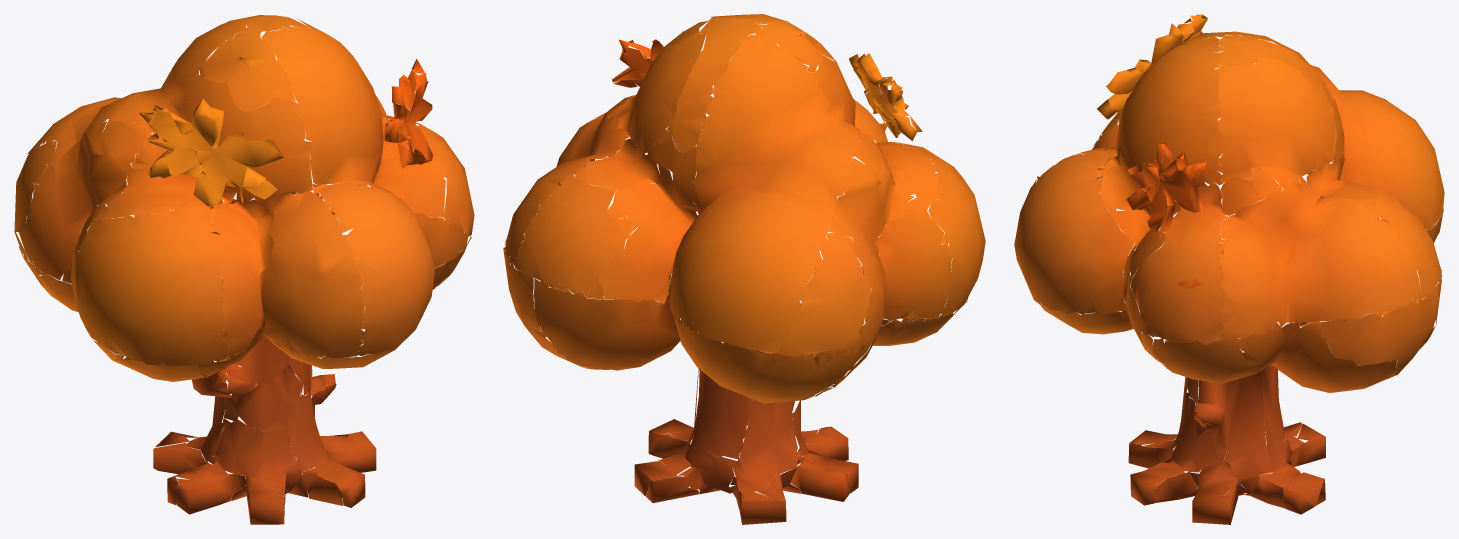
File: herbstbaum.glb
3 renders of one model, left to right at view 1: azimuth 30°, elevation 25°; view 2: azimuth 150°, elevation 25°; view 3: azimuth 270°, elevation 25°, orthographic. The views are drawn at different scales.
Parts seen in each view (by area): view 1: tripo_node_6b88ec31-4adb-4275-ba2a-e397ff44c08a; view 2: tripo_node_6b88ec31-4adb-4275-ba2a-e397ff44c08a; view 3: tripo_node_6b88ec31-4adb-4275-ba2a-e397ff44c08a.
Part boxes in pixels (left/top/right/bottom): tripo_node_6b88ec31-4adb-4275-ba2a-e397ff44c08a: left=14, top=15, right=474, bottom=524; tripo_node_6b88ec31-4adb-4275-ba2a-e397ff44c08a: left=503, top=14, right=985, bottom=524; tripo_node_6b88ec31-4adb-4275-ba2a-e397ff44c08a: left=1014, top=14, right=1444, bottom=524.
Size of the model in its own units: 0.9016 by 1 by 0.888.
1 material, 1 textured.
